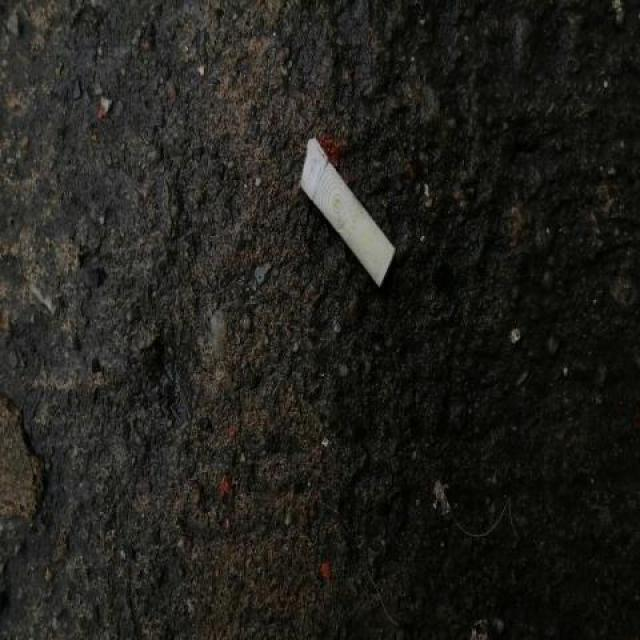non-organic waste: (294, 130, 398, 294)
